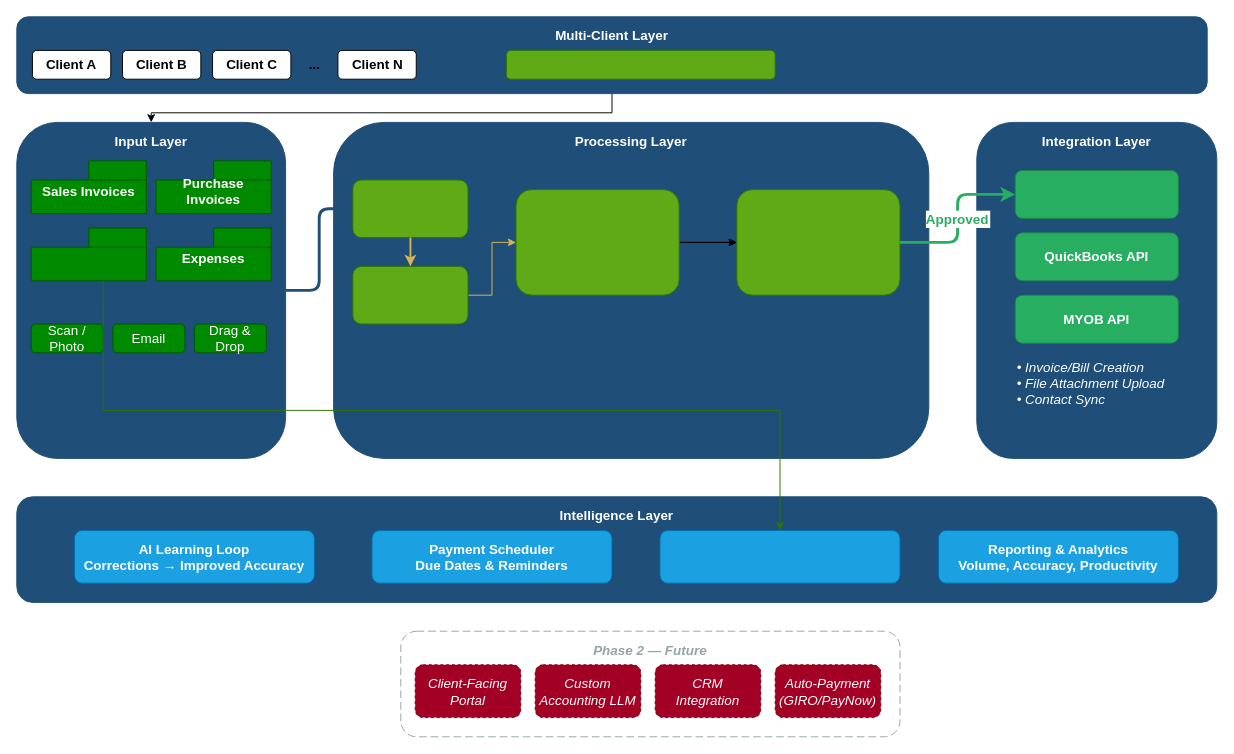
Image size: 1234x754. Some labels were removed from this diagram. The shapes that lost their labels are listed below. From the top down, each one's centre as x and y in pixels, then its label:
At point 640,64: "Centralized Management Dashboard".
At point 410,208: "Document Ingestion".
At point 1096,193: "Xero API (Primary)".
At point 88,254: "Bank Statements".
At point 597,242: "AI Data Extraction Invoice #, Amounts, Dates, Line Items, Tax Rate, Vendor".
At point 818,242: "Human Review Dashboard Approval / Correction Confidence Score".
At point 410,294: "OCR Engine (Tesseract)".
At point 779,556: "Bank Reconciliation Match Statements → Invoices".
